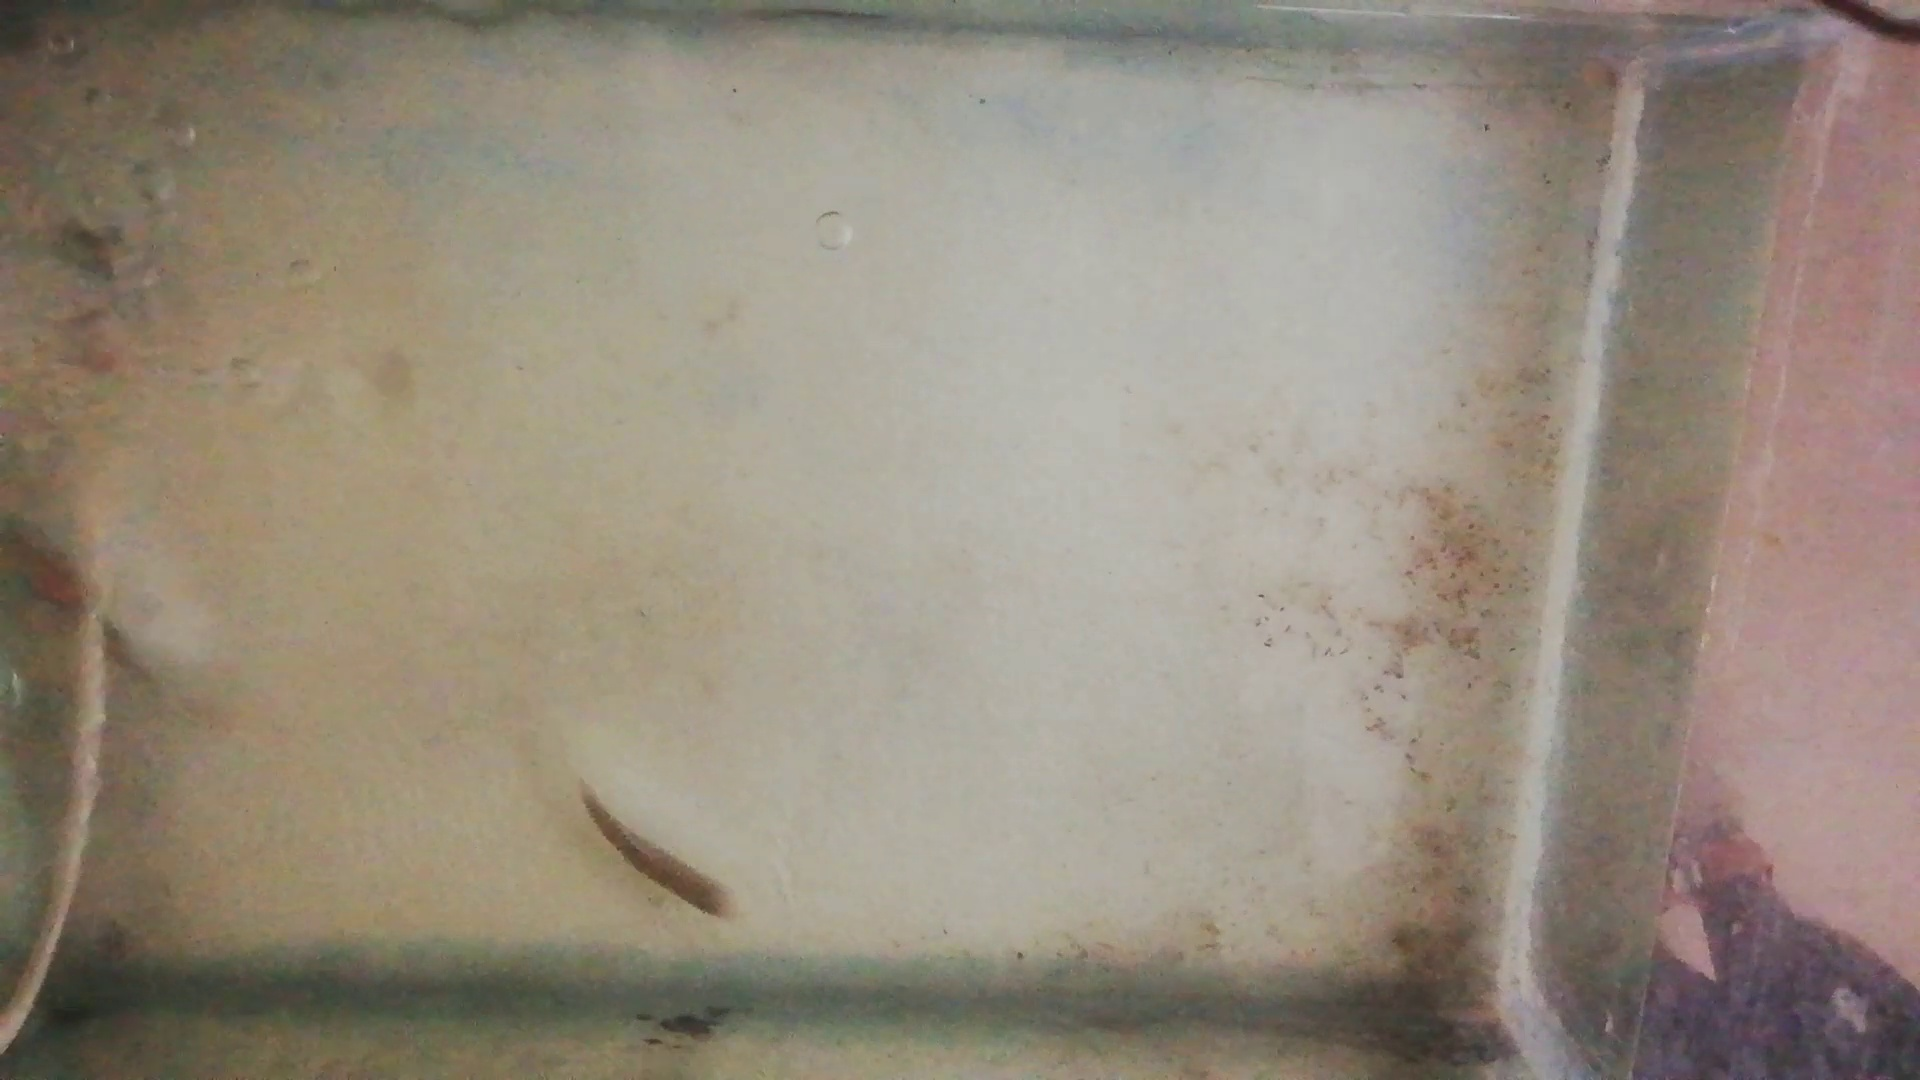fish: (3, 517, 142, 680), (578, 786, 742, 922)
